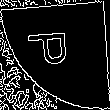P_E: (29, 34, 81, 76)
